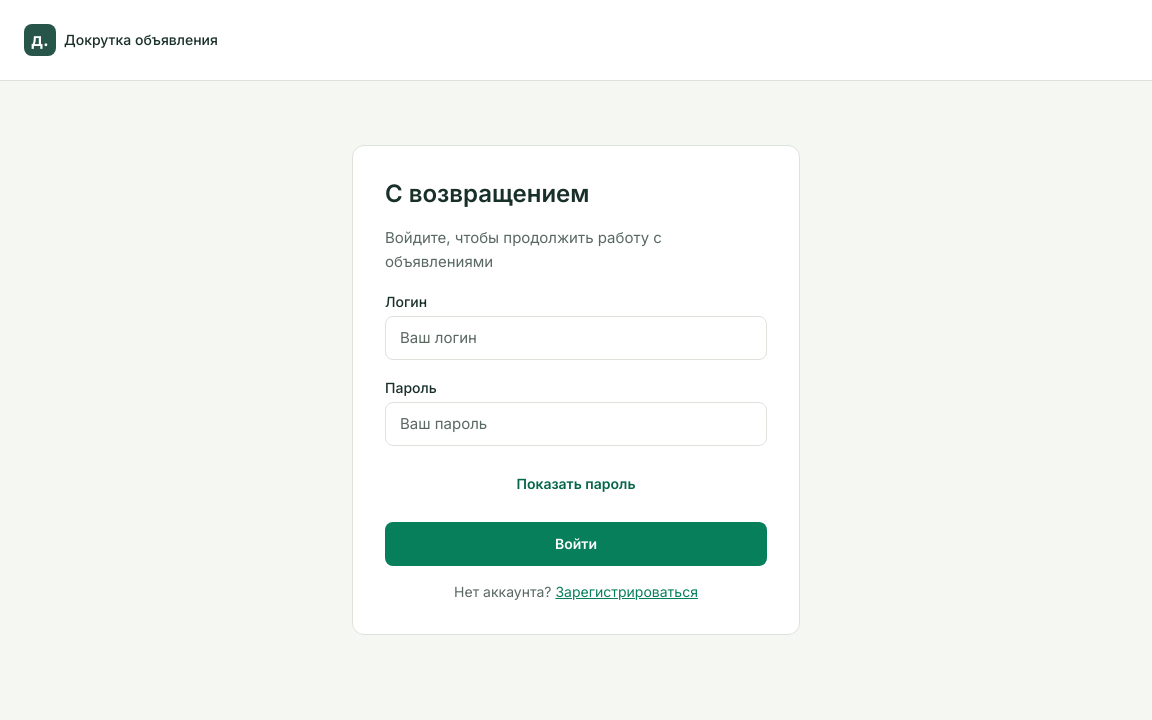
it: показ пароля доступен с клавиатуры и сохраняет значение
The width and height of the screenshot is (1152, 720).
Expected: the heading "С возвращением" is shown, [385, 179, 589, 208]
Type "a" into the field labelled "Логин" at [576, 338], box [385, 316, 767, 360]
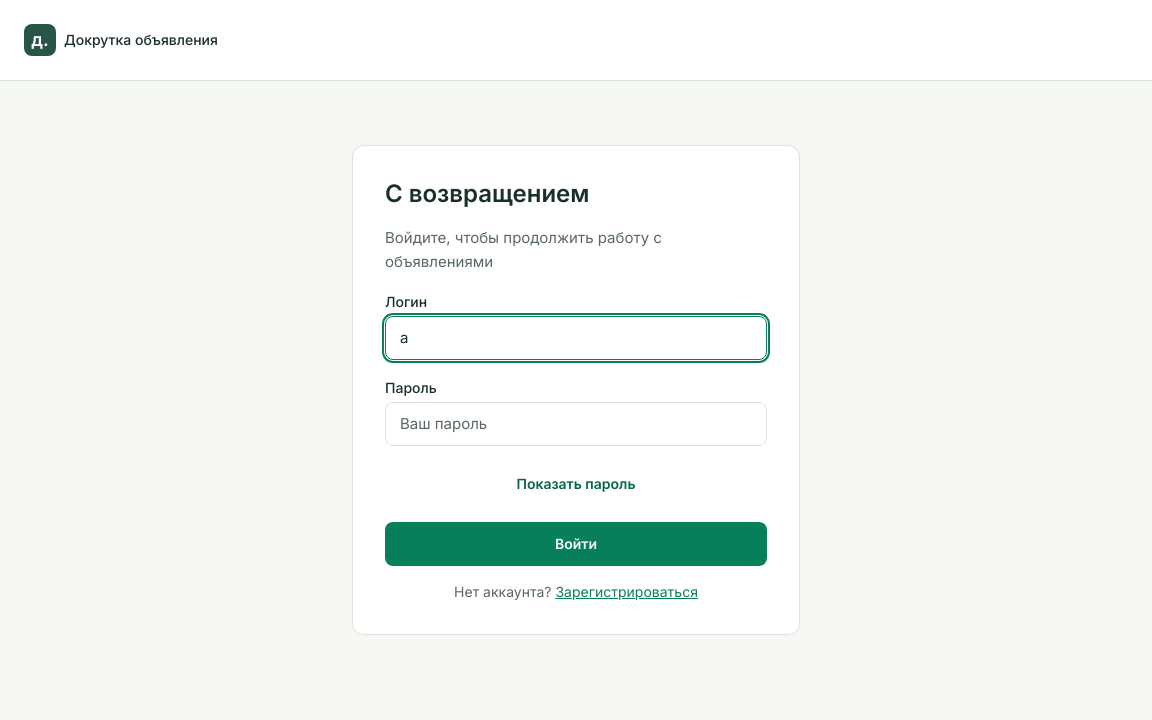
Type "x" into the password field labelled "Пароль" at [576, 424], box [385, 402, 767, 446]
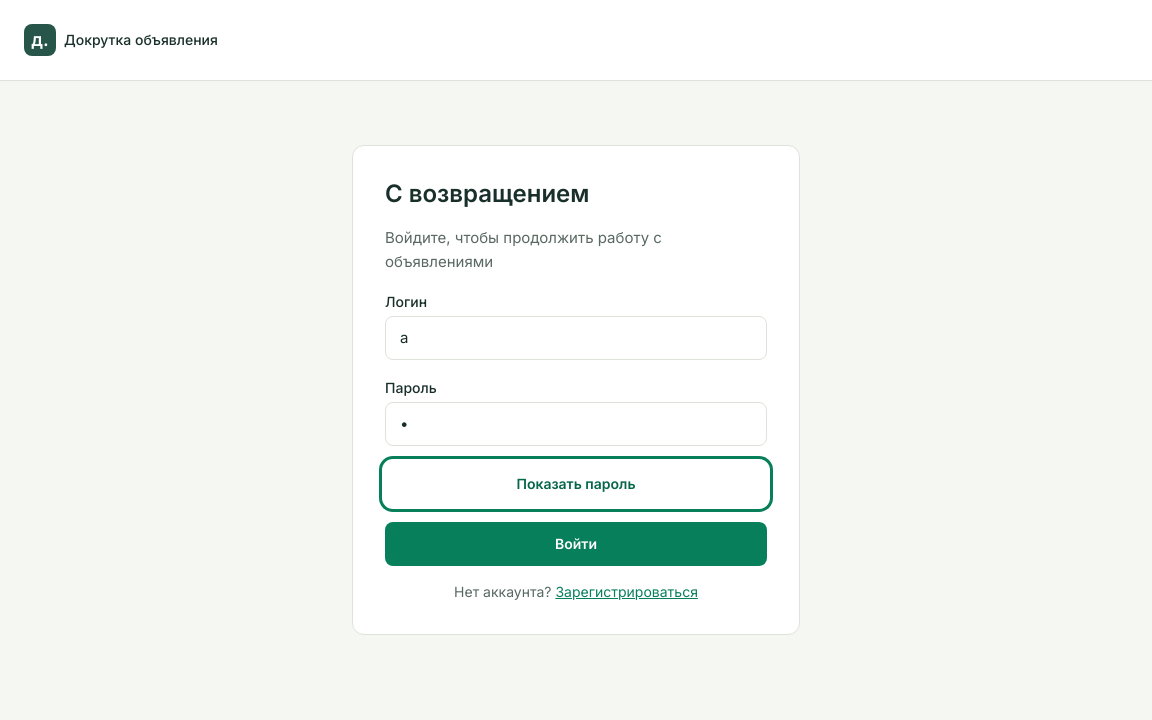
Type keys " "
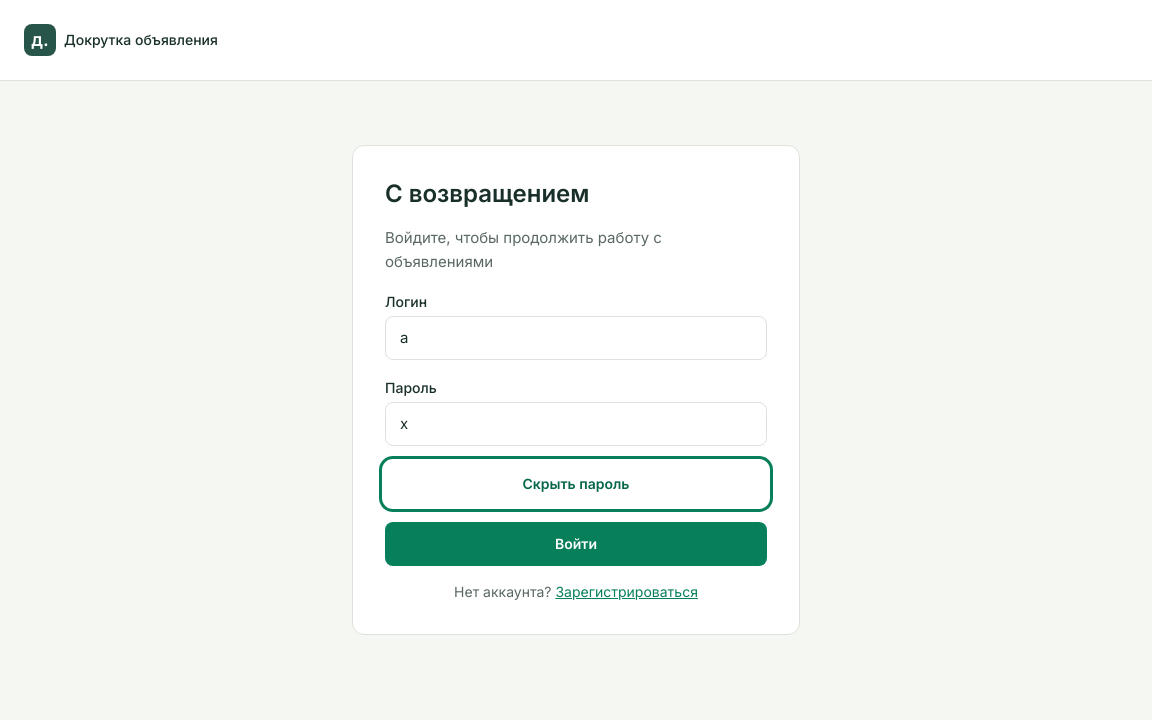
Result: the field labelled "Пароль" shows its text at [385, 402, 767, 446]
Type keys " "
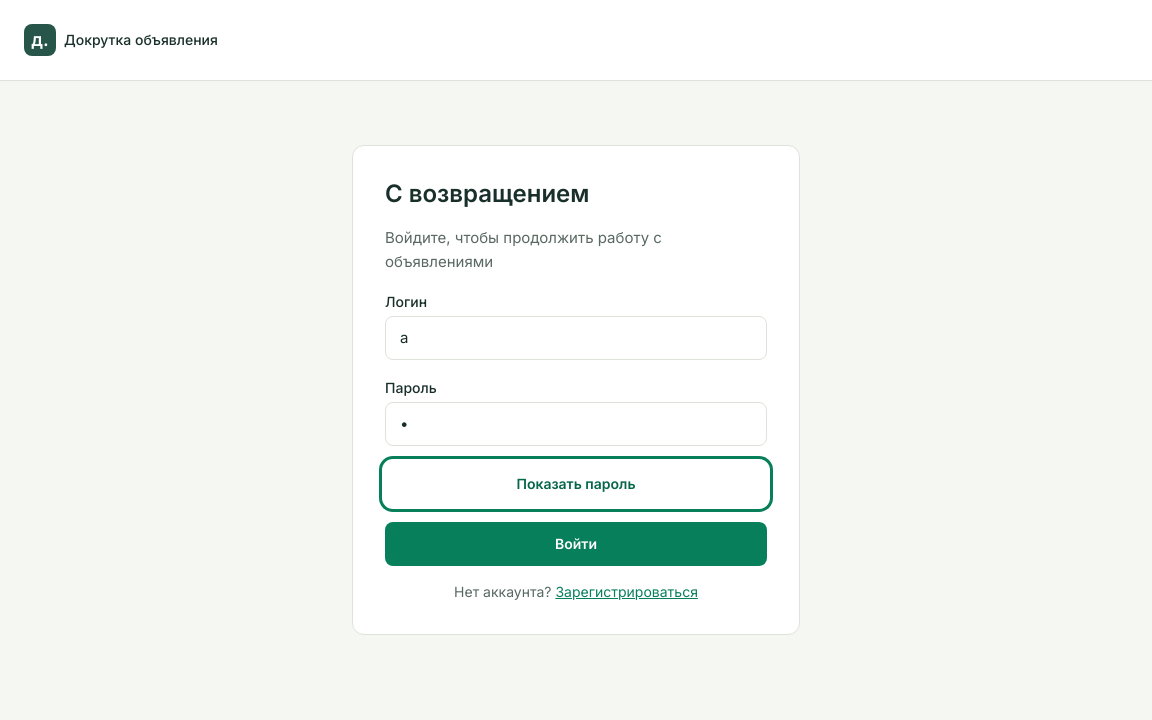
Result: the password field labelled "Пароль" hides its text at [385, 402, 767, 446]
